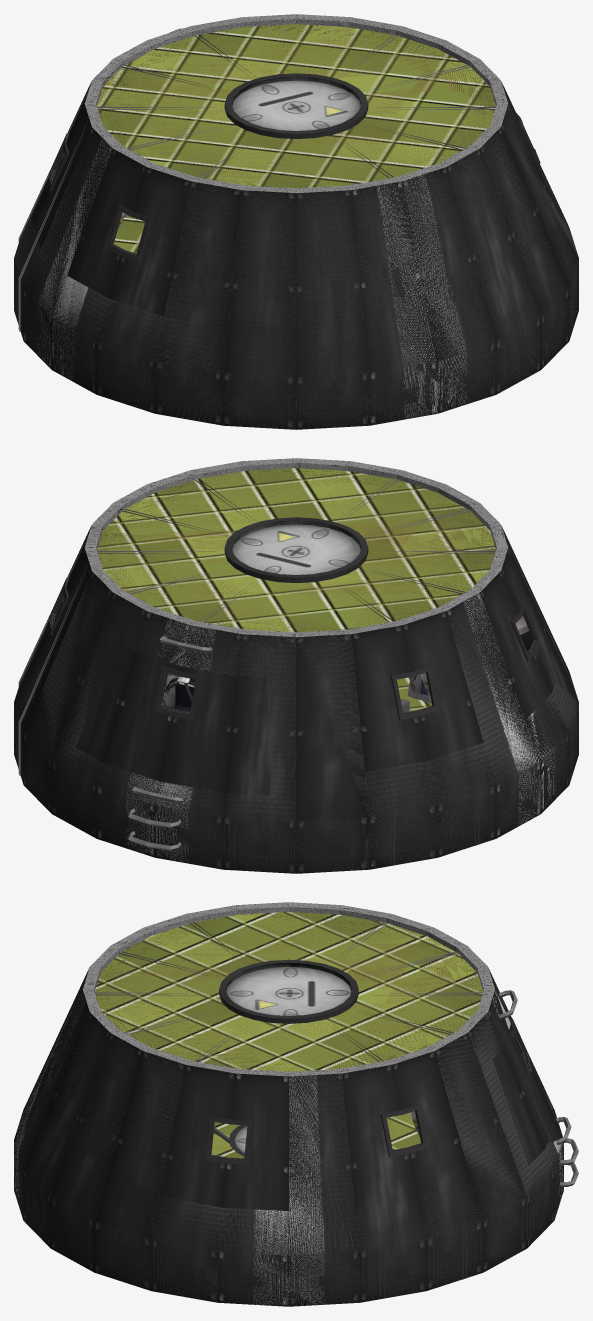
File: BigBSpace.FBX
3 views of the same model, one above another, from view 1: azimuth 30°, elevation 25°; view 2: azimuth 150°, elevation 25°; view 3: azimuth 270°, elevation 25° (orthographic). The views are drawn at different scales.
Parts seen in each view (by area): view 1: MainBody (×2), Bulkhead, Foil, Cylinder047, WindowFrameCenter007, Bracing041; view 2: MainBody (×2), Bulkhead, Foil, Cylinder047, WindowFrameCenter006, WindowFrameCenter001, Seat010, WindowFrameCenter007, Bracing037; view 3: MainBody (×2), Bulkhead, Foil, Cylinder047, WindowFrameCenter009, WindowFrameCenter008.
Boxes of the visible parts, x1,y1,x2,y2 form: MainBody (×2): (14, 14, 578, 429); Bulkhead: (97, 24, 495, 253); Foil: (98, 24, 494, 253); Cylinder047: (224, 73, 368, 138); WindowFrameCenter007: (106, 205, 151, 261); Bracing041: (18, 121, 87, 331); MainBody (×2): (14, 458, 578, 873); Bulkhead: (97, 468, 495, 711); Foil: (97, 468, 495, 711); Cylinder047: (224, 517, 368, 582); WindowFrameCenter006: (390, 666, 439, 719); WindowFrameCenter001: (153, 666, 202, 719); Seat010: (163, 676, 195, 711); WindowFrameCenter007: (510, 603, 540, 661); Bracing037: (18, 565, 87, 775); MainBody (×2): (14, 902, 563, 1306); Bulkhead: (94, 912, 483, 1158); Foil: (96, 912, 481, 1157); Cylinder047: (219, 959, 358, 1023); WindowFrameCenter009: (205, 1116, 252, 1164); WindowFrameCenter008: (380, 1104, 427, 1156).
Size of the model in its own units: 2.5 by 1.01 by 2.57.
